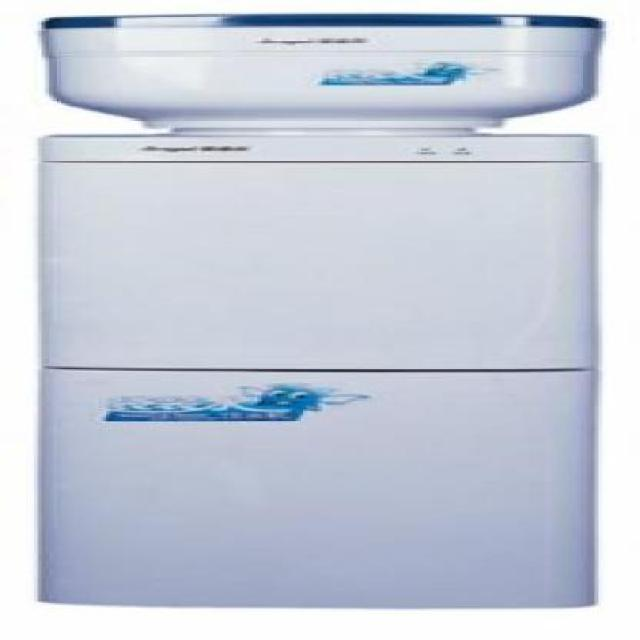cooler: (15, 9, 638, 613)
